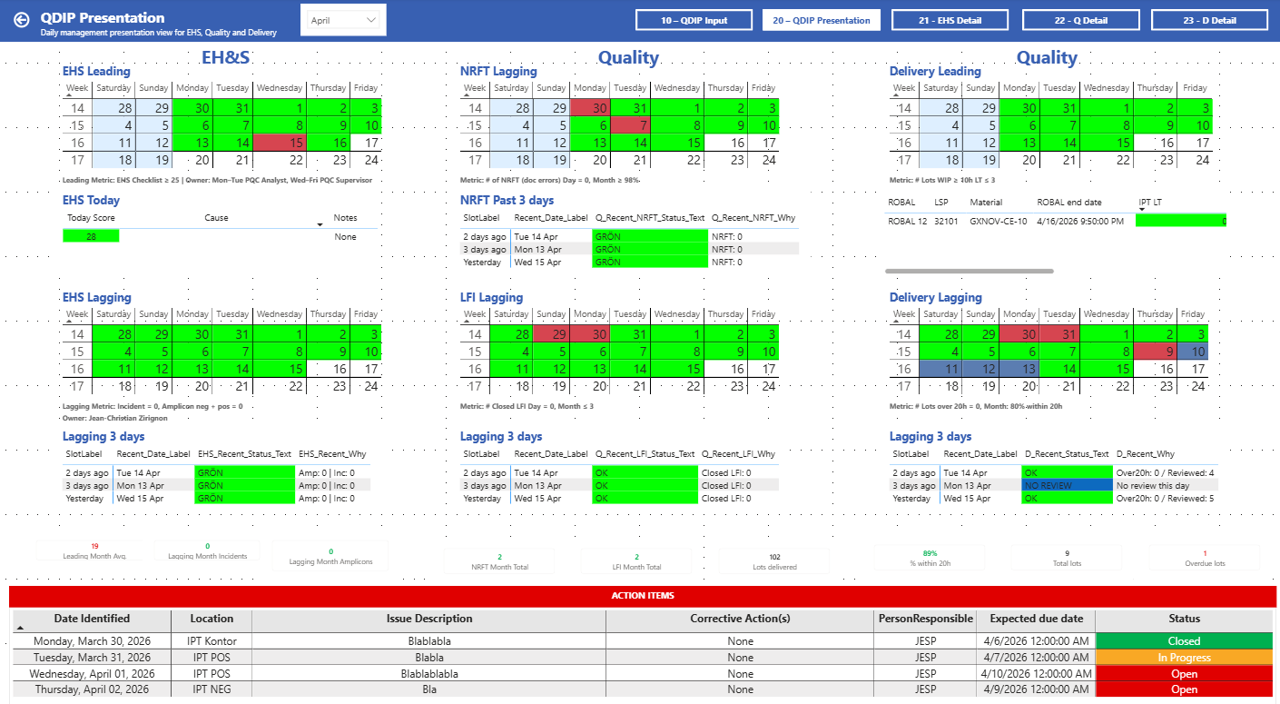

This screenshot's page, from the dashboard's own definition file:
{"tool":"powerbi","page":{"name":"20 - QDIP Presentation","canvas":[1920,1080],"ordinal":1},"visuals":[{"type":"shape","box":[0,0,1920,65],"z":0},{"type":"textbox","box":[64,8,376,64],"z":1000},{"type":"textbox","box":[288,64,112,48],"z":2000},{"type":"pivotTable","title":"EHS Leading","fields":{"Columns":["Dim_Date.DayOfWeekName"],"Values":["Min(Dim_Date.DayOfMonth)"],"Rows":["Dim_Date.FiscalWeek2026"]},"box":[96,96,496,176],"z":3000},{"type":"slicer","fields":{"Values":["Dim_Date.FiscalMonthName"]},"box":[456,8,128,48],"z":4000},{"type":"textbox","box":[96,256,496,32],"z":5000},{"type":"pivotTable","title":"EHS Lagging","fields":{"Columns":["Dim_Date.DayOfWeekName"],"Values":["Min(Dim_Date.DayOfMonth)"],"Rows":["Dim_Date.FiscalWeek2026"]},"box":[96,432,496,176],"z":6000},{"type":"cardVisual","fields":{"Data":["_Measures.EHS_Leading_MonthAvg"]},"box":[44.7,790,208,64],"z":7000},{"type":"textbox","box":[96,592,304,48],"z":8000},{"type":"cardVisual","fields":{"Data":["_Measures.EHS_Lagging_Month_Incidents"]},"box":[220.7,790,192,64],"z":9000},{"type":"cardVisual","fields":{"Data":["_Measures.EHS_Lagging_Month_Amplicons"]},"box":[396.7,790,208,80],"z":10000},{"type":"tableEx","fields":{"Values":["QDIP_Actions.DateIdentified","QDIP_Actions.Location","QDIP_Actions.IssueDescription","QDIP_Actions.CorrectiveActions","QDIP_Actions.PersonResponsible","LocalDateTable_c521a7a2-e4b4-41bf-aebe-6e9e74b863cf.Date","QDIP_Actions.Status"]},"box":[21,906.5,1888,160],"z":11000},{"type":"textbox","box":[21,874.5,1888,32],"z":12000},{"type":"actionButton","box":[24,16,32,32],"z":13000},{"type":"pivotTable","title":"NRFT Lagging","fields":{"Columns":["Dim_Date.DayOfWeekName"],"Values":["Min(Dim_Date.DayOfMonth)"],"Rows":["Dim_Date.FiscalWeek2026"]},"box":[688,96,496,176],"z":14000},{"type":"textbox","box":[688,256,304,32],"z":15000},{"type":"pivotTable","title":"LFI Lagging","fields":{"Columns":["Dim_Date.DayOfWeekName"],"Values":["Min(Dim_Date.DayOfMonth)"],"Rows":["Dim_Date.FiscalWeek2026"]},"box":[688,432,512,176],"z":16000},{"type":"cardVisual","fields":{"Data":["_Measures.Q_NRFT_MonthTotal"]},"box":[652.1,802,200,72],"z":17000},{"type":"textbox","box":[688,592,256,32],"z":18000},{"type":"cardVisual","fields":{"Data":["_Measures.Q_LFI_MonthTotal"]},"box":[856.1,802,200,72],"z":19000},{"type":"cardVisual","fields":{"Data":["_Measures.Q_TotalLots_Month"]},"box":[1061.1,802,200,72],"z":20000},{"type":"pivotTable","title":"Delivery Leading","fields":{"Columns":["Dim_Date.DayOfWeekName"],"Values":["Min(Dim_Date.DayOfMonth)"],"Rows":["Dim_Date.FiscalWeek2026"]},"box":[1328,96,512,176],"z":21000},{"type":"textbox","box":[1328,256,176,32],"z":22000},{"type":"textbox","box":[1328,592,288,32],"z":23000},{"type":"cardVisual","fields":{"Data":["_Measures.D_Lagging_Pct_Within20h"]},"box":[1293.1,796.9,200,72],"z":24000},{"type":"cardVisual","fields":{"Data":["_Measures.D_Lagging_TotalLots"]},"box":[1497.1,796.9,200,72],"z":25000},{"type":"cardVisual","fields":{"Data":["_Measures.D_Lagging_LotsOver20h"]},"box":[1702.1,796.9,200,72],"z":26000},{"type":"actionButton","box":[954,16.7,175,32],"z":27000},{"type":"actionButton","box":[1722,16.7,175,32],"z":28000},{"type":"actionButton","box":[1336,16,175,32],"z":29000},{"type":"actionButton","box":[1530,16.7,176,32],"z":30000},{"type":"actionButton","box":[1144,16,176,32],"z":31000},{"type":"pivotTable","title":"Lagging 3 days","fields":{"Rows":["RecentDaySlots.SlotLabel"],"Values":["_Measures.Recent_Date_Label","_Measures.EHS_Recent_Status_Text","_Measures.EHS_Recent_Why"]},"box":[96,640,496,128],"z":32000},{"type":"pivotTable","title":"Delivery Lagging","fields":{"Columns":["Dim_Date.DayOfWeekName"],"Values":["Min(Dim_Date.DayOfMonth)"],"Rows":["Dim_Date.FiscalWeek2026"]},"box":[1328,432,496,176],"z":33000},{"type":"pivotTable","title":"NRFT Past 3 days","fields":{"Rows":["RecentDaySlots.SlotLabel"],"Values":["_Measures.Recent_Date_Label","_Measures.Q_Recent_NRFT_Status_Text","_Measures.Q_Recent_NRFT_Why"]},"box":[688,288,528,128],"z":34000},{"type":"pivotTable","title":"Lagging 3 days","fields":{"Rows":["RecentDaySlots.SlotLabel"],"Values":["_Measures.Recent_Date_Label","_Measures.Q_Recent_LFI_Status_Text","_Measures.Q_Recent_LFI_Why"]},"box":[688,640,496,128],"z":35000},{"type":"pivotTable","title":"Lagging 3 days","fields":{"Rows":["RecentDaySlots.SlotLabel"],"Values":["_Measures.Recent_Date_Label","_Measures.D_Recent_Status_Text","_Measures.D_Recent_Why"]},"box":[1328,640,512,128],"z":36000},{"type":"textbox","box":[880,64,128,48],"z":37000},{"type":"textbox","box":[1504,64,128,48],"z":38000},{"type":"tableEx","title":"D Today","fields":{"Values":["Cepheid | Production orders.Work Center","Cepheid | Production orders.LSP","Cepheid | Production orders.Material","Cepheid | Production orders.ROBAL - Actual end date/ time","_Measures.D_Leading_LT_Display","Cepheid | Production orders.Packing info","Cepheid | Production orders.IPT - Compiling of data","Cepheid | Production orders.IPT - Test results","Cepheid | Production orders.IPT - Document review"]},"box":[1328,288,512,128],"z":39000},{"type":"tableEx","title":"EHS Today","fields":{"Values":["_Measures.EHS_Leading_TodayScore","_Measures.EHS_Leading_TodayCauseText","_Measures.EHS_Leading_TodayNotes"]},"box":[96,288,480,128],"z":40000}]}

Visuals, with their boxes in screenshot pixels (x1, y1, x2, y2), scaled from the page's 1920x1080 canvas onto the 1280x704 screenshot:
shape: (x1=0, y1=0, x2=1279, y2=42)
textbox: (x1=43, y1=5, x2=293, y2=47)
textbox: (x1=192, y1=42, x2=267, y2=73)
"EHS Leading" pivotTable: (x1=64, y1=63, x2=395, y2=177)
slicer - Dim_Date.FiscalMonthName: (x1=304, y1=5, x2=389, y2=37)
textbox: (x1=64, y1=167, x2=395, y2=188)
"EHS Lagging" pivotTable: (x1=64, y1=282, x2=395, y2=396)
cardVisual - _Measures.EHS_Leading_MonthAvg: (x1=30, y1=515, x2=168, y2=557)
textbox: (x1=64, y1=386, x2=267, y2=417)
cardVisual - _Measures.EHS_Lagging_Month_Incidents: (x1=147, y1=515, x2=275, y2=557)
cardVisual - _Measures.EHS_Lagging_Month_Amplicons: (x1=264, y1=515, x2=403, y2=567)
tableEx - QDIP_Actions.DateIdentified x QDIP_Actions.Location: (x1=14, y1=591, x2=1273, y2=695)
textbox: (x1=14, y1=570, x2=1273, y2=591)
actionButton: (x1=16, y1=10, x2=37, y2=31)
"NRFT Lagging" pivotTable: (x1=459, y1=63, x2=789, y2=177)
textbox: (x1=459, y1=167, x2=661, y2=188)
"LFI Lagging" pivotTable: (x1=459, y1=282, x2=800, y2=396)
cardVisual - _Measures.Q_NRFT_MonthTotal: (x1=435, y1=523, x2=568, y2=570)
textbox: (x1=459, y1=386, x2=629, y2=407)
cardVisual - _Measures.Q_LFI_MonthTotal: (x1=571, y1=523, x2=704, y2=570)
cardVisual - _Measures.Q_TotalLots_Month: (x1=707, y1=523, x2=841, y2=570)
"Delivery Leading" pivotTable: (x1=885, y1=63, x2=1227, y2=177)
textbox: (x1=885, y1=167, x2=1003, y2=188)
textbox: (x1=885, y1=386, x2=1077, y2=407)
cardVisual - _Measures.D_Lagging_Pct_Within20h: (x1=862, y1=519, x2=995, y2=566)
cardVisual - _Measures.D_Lagging_TotalLots: (x1=998, y1=519, x2=1131, y2=566)
cardVisual - _Measures.D_Lagging_LotsOver20h: (x1=1135, y1=519, x2=1268, y2=566)
actionButton: (x1=636, y1=11, x2=753, y2=32)
actionButton: (x1=1148, y1=11, x2=1265, y2=32)
actionButton: (x1=891, y1=10, x2=1007, y2=31)
actionButton: (x1=1020, y1=11, x2=1137, y2=32)
actionButton: (x1=763, y1=10, x2=880, y2=31)
"Lagging 3 days" pivotTable: (x1=64, y1=417, x2=395, y2=501)
"Delivery Lagging" pivotTable: (x1=885, y1=282, x2=1216, y2=396)
"NRFT Past 3 days" pivotTable: (x1=459, y1=188, x2=811, y2=271)
"Lagging 3 days" pivotTable: (x1=459, y1=417, x2=789, y2=501)
"Lagging 3 days" pivotTable: (x1=885, y1=417, x2=1227, y2=501)
textbox: (x1=587, y1=42, x2=672, y2=73)
textbox: (x1=1003, y1=42, x2=1088, y2=73)
"D Today" tableEx: (x1=885, y1=188, x2=1227, y2=271)
"EHS Today" tableEx: (x1=64, y1=188, x2=384, y2=271)
